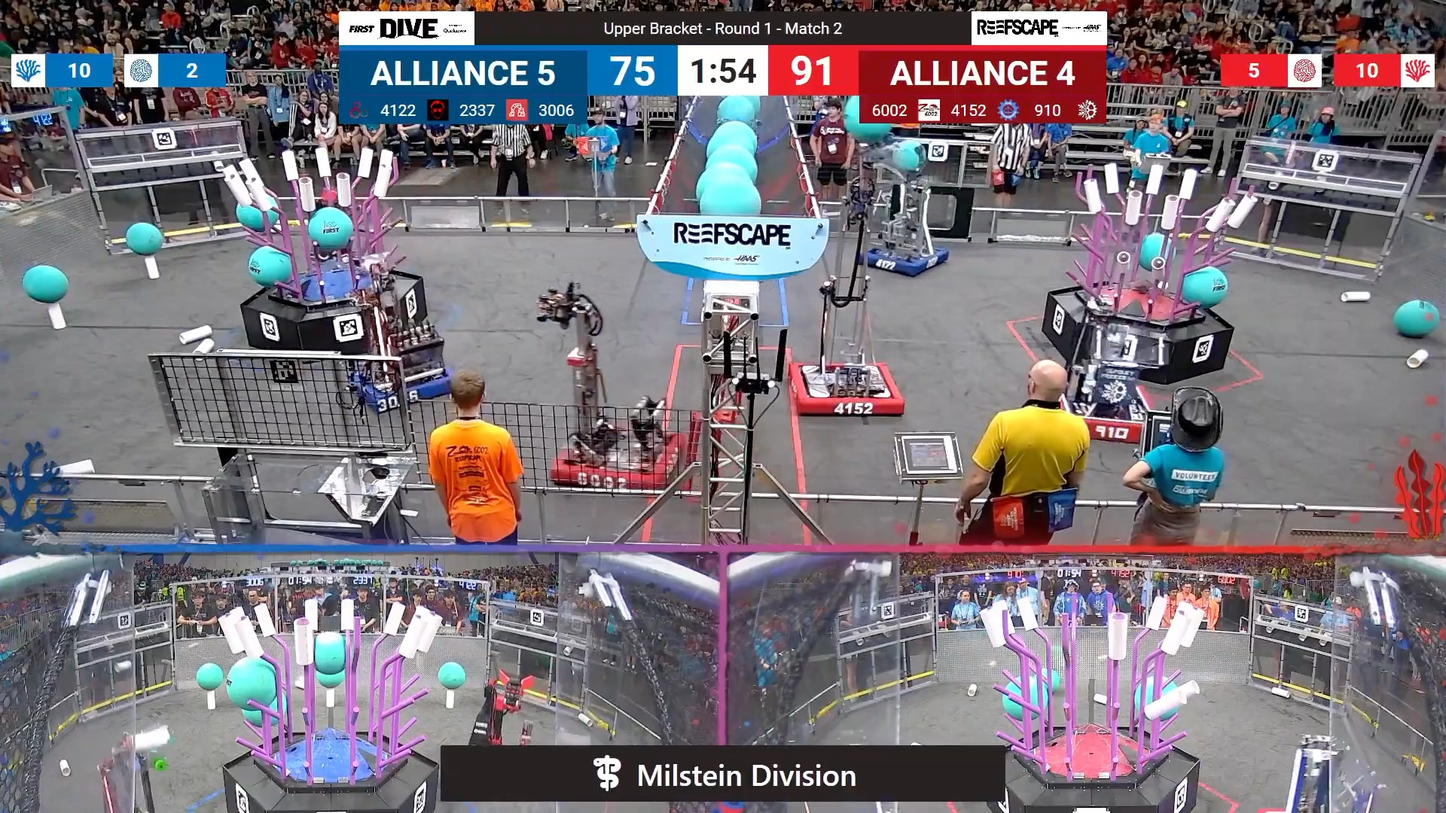bumpers: (545, 428, 686, 499), (785, 358, 909, 424), (1055, 376, 1165, 449), (340, 355, 461, 411), (853, 243, 956, 279)
